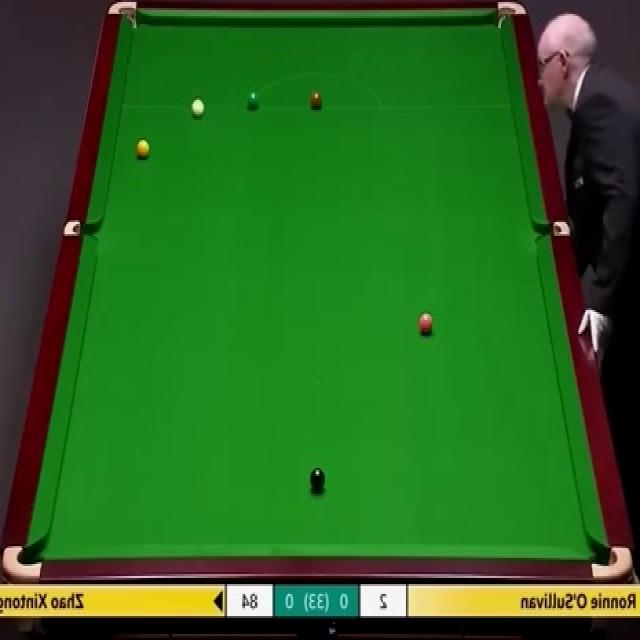pocket: (3, 542, 43, 583), (589, 542, 634, 578), (494, 0, 530, 34), (108, 0, 141, 32), (64, 218, 100, 237), (538, 220, 574, 237)
